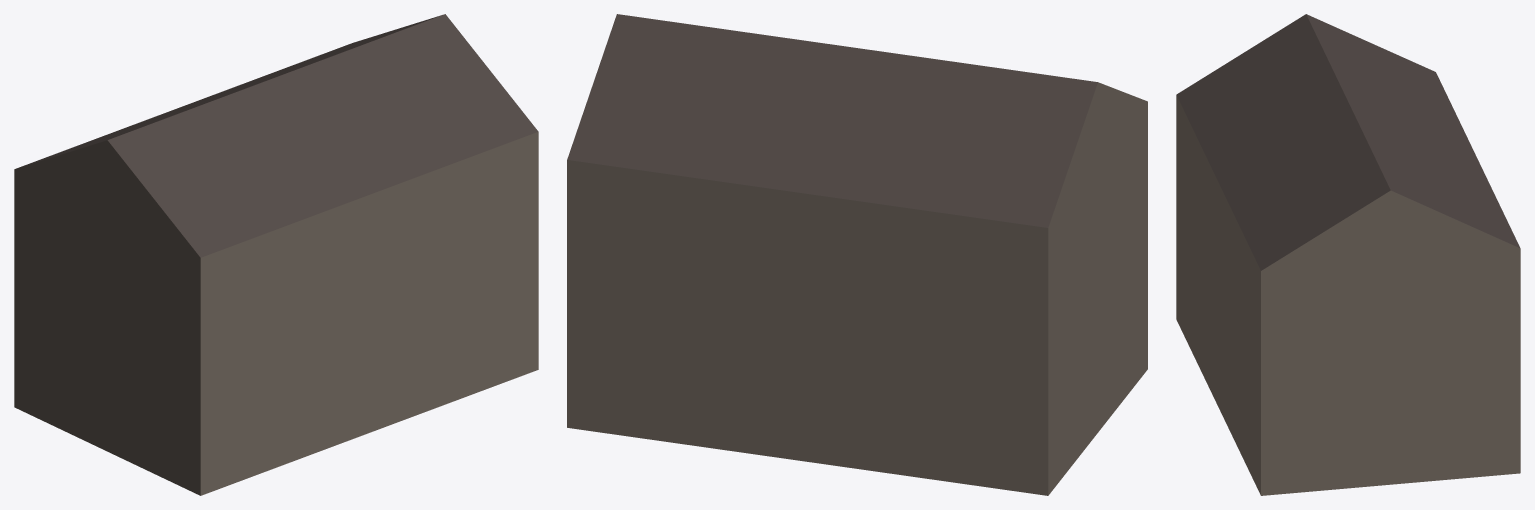
The picture shows the model from 3 angles, left to right: view 1: azimuth 30°, elevation 25°; view 2: azimuth 150°, elevation 25°; view 3: azimuth 270°, elevation 25°; orthographic projection. The views are drawn at different scales.
Visible parts, largest first — view 1: HP-w701981165; view 2: HP-w701981165; view 3: HP-w701981165.
Part boxes in pixels (x1,y1,x2,y2): HP-w701981165: [14, 14, 538, 495]; HP-w701981165: [567, 14, 1147, 495]; HP-w701981165: [1176, 14, 1520, 495].
Size of the model in its own units: 17.08 by 11.77 by 12.48.
